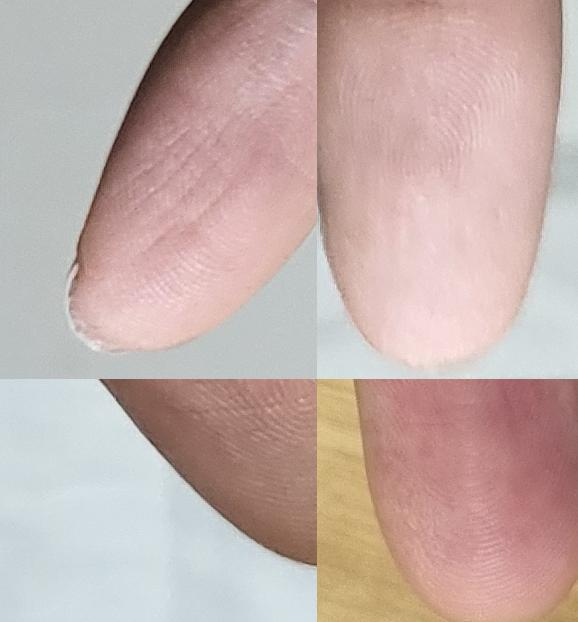Fingerprints: (317, 2, 562, 368), (75, 0, 317, 352), (354, 379, 578, 622), (98, 379, 317, 567)
